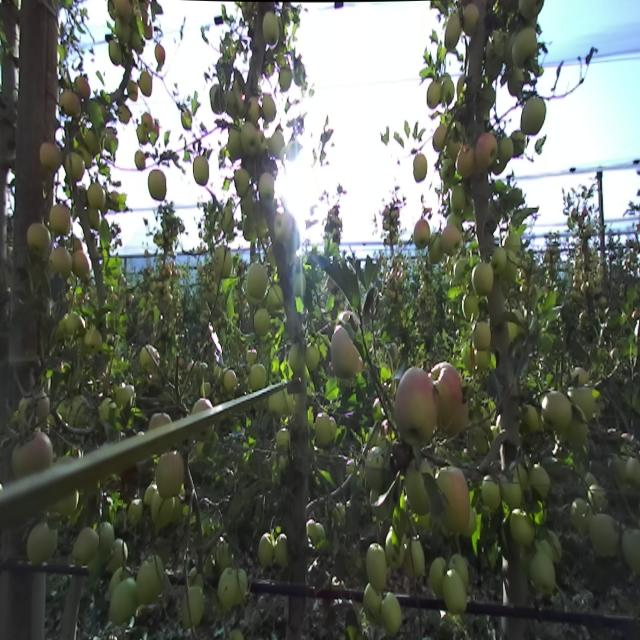apple: (396, 368, 437, 440), (435, 363, 470, 436), (436, 468, 470, 533), (12, 436, 53, 476), (407, 459, 433, 512), (332, 326, 358, 379), (156, 450, 184, 498), (590, 512, 618, 558), (110, 579, 137, 624), (542, 392, 572, 432), (137, 560, 165, 601), (27, 525, 57, 562), (18, 392, 49, 427), (444, 571, 468, 615), (514, 29, 538, 68), (366, 544, 386, 590), (532, 556, 557, 592), (568, 385, 594, 419), (192, 400, 214, 440), (74, 528, 98, 564), (622, 526, 640, 574), (522, 97, 546, 132), (566, 406, 588, 444), (511, 509, 533, 546), (382, 594, 402, 634), (184, 587, 203, 627), (405, 538, 424, 578), (366, 447, 386, 485), (477, 131, 498, 167), (153, 493, 174, 528), (50, 203, 72, 236), (570, 498, 591, 532), (27, 222, 50, 253), (502, 474, 522, 509), (472, 262, 493, 295), (449, 552, 469, 586), (107, 540, 129, 570), (530, 463, 550, 496), (482, 475, 501, 509), (457, 144, 476, 178), (249, 262, 267, 296), (486, 29, 504, 63), (587, 483, 607, 513), (50, 248, 72, 275), (386, 534, 404, 567), (444, 15, 462, 48), (218, 568, 234, 605), (41, 142, 62, 170), (430, 557, 445, 596), (214, 246, 232, 278), (263, 11, 279, 46), (234, 566, 248, 606), (472, 321, 491, 350), (149, 168, 166, 200), (60, 91, 80, 118), (511, 461, 528, 492), (242, 123, 258, 155), (364, 584, 380, 616), (275, 212, 292, 242), (462, 4, 479, 34), (522, 404, 539, 434), (66, 152, 84, 180), (88, 182, 106, 210), (462, 292, 480, 320), (259, 173, 275, 204), (502, 251, 518, 282), (74, 252, 93, 278), (518, 0, 544, 18), (193, 154, 208, 185), (274, 535, 288, 568), (258, 534, 273, 564), (414, 218, 429, 248), (250, 363, 266, 391), (229, 89, 245, 117), (548, 530, 562, 562), (444, 227, 461, 253), (626, 454, 640, 485), (490, 248, 508, 272), (316, 411, 329, 444), (141, 345, 158, 370), (100, 524, 114, 554), (115, 18, 131, 44), (508, 68, 524, 94), (480, 84, 496, 110), (216, 542, 234, 565), (99, 397, 116, 421), (210, 85, 225, 112), (64, 311, 84, 331), (510, 132, 528, 154), (270, 130, 284, 158), (448, 130, 462, 158), (427, 80, 441, 108), (255, 310, 270, 336), (229, 128, 242, 158), (240, 186, 255, 212), (276, 428, 291, 454), (78, 144, 94, 168), (269, 392, 285, 416), (268, 287, 283, 312), (234, 169, 249, 194), (58, 493, 80, 510), (117, 384, 134, 406), (538, 539, 554, 562), (290, 342, 303, 370), (452, 187, 465, 215), (441, 77, 455, 103), (75, 76, 90, 100), (414, 152, 426, 182), (572, 366, 590, 386), (263, 93, 276, 120), (84, 330, 101, 350), (475, 350, 492, 370), (505, 234, 522, 254), (247, 97, 260, 123), (128, 497, 142, 521), (220, 209, 234, 233), (430, 233, 441, 263), (307, 342, 319, 369), (434, 124, 446, 151), (441, 159, 455, 182), (144, 485, 158, 507), (499, 137, 513, 159), (86, 210, 102, 229), (189, 566, 204, 586), (150, 413, 172, 426), (132, 28, 143, 54), (116, 0, 131, 19), (86, 132, 100, 152), (140, 71, 152, 94), (109, 40, 121, 63), (454, 260, 469, 278), (224, 368, 236, 390), (280, 70, 292, 92), (258, 128, 267, 157), (293, 274, 306, 294), (66, 235, 83, 250), (142, 112, 154, 132), (313, 523, 325, 543), (447, 212, 462, 228), (135, 149, 146, 170), (156, 42, 166, 64), (118, 105, 130, 123), (486, 64, 503, 76), (306, 518, 316, 538), (457, 75, 467, 95), (128, 80, 138, 99), (138, 125, 148, 143), (329, 417, 336, 440), (246, 349, 257, 362), (201, 382, 211, 396), (215, 367, 223, 382)
